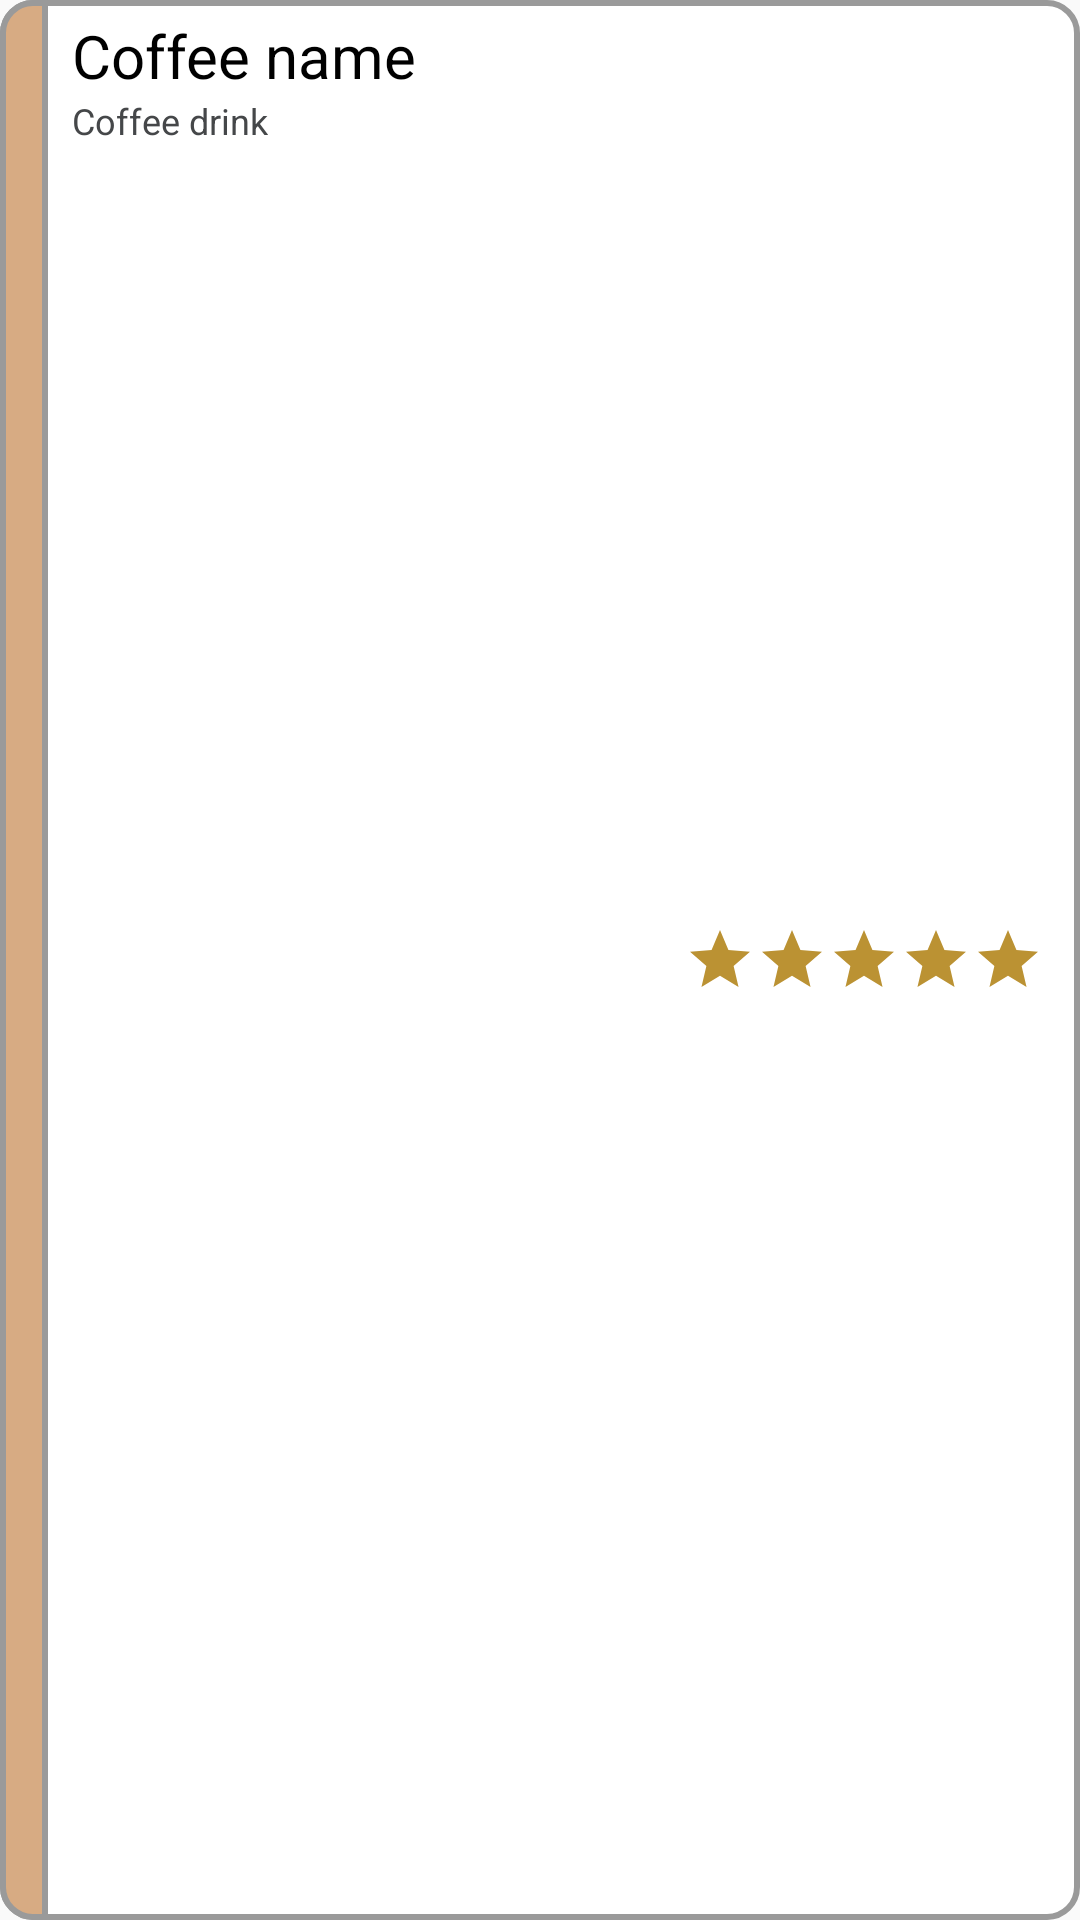

Locate icon controls on the screen. Image size 1080w x 1920h, boxes as (x1, y1, x2, y2).
star on: (690, 930, 750, 987), (762, 930, 822, 987), (834, 930, 894, 987), (906, 930, 966, 987), (978, 930, 1038, 987)
